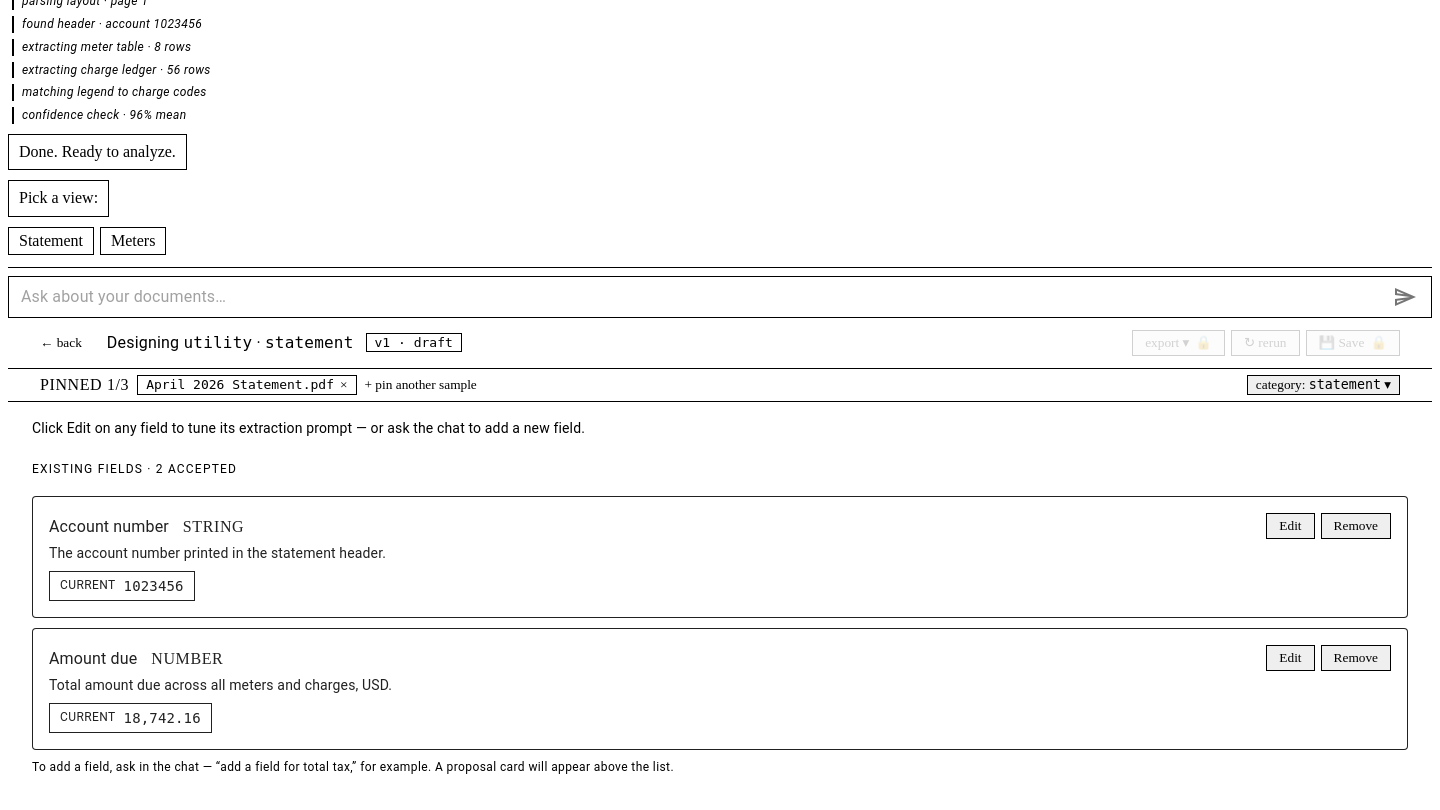
Scenario: SchemaView (UI-01 Phase 1) › anonymous Save → 401 opens the sign-in viewer with the save-schema preamble
(page scrolled)
Click the button with test id "schema-remove-field-amount_due". click: [1356, 658]
box: [1321, 645, 1391, 671]
(page scrolled)
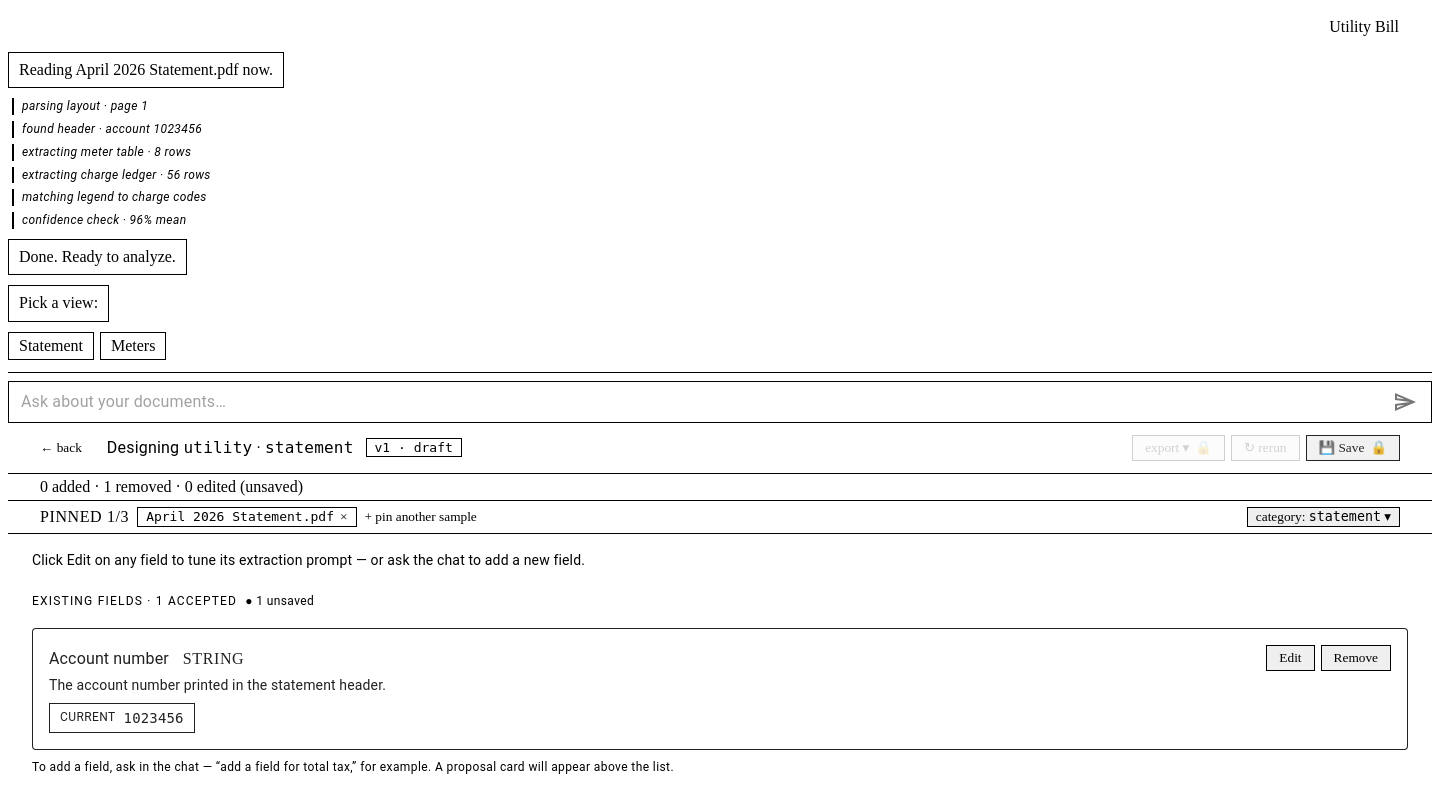
Result: the button with test id "extract-topbar-save" is enabled
Click the button with test id "extract-topbar-save". click: [1353, 448]
box: [1306, 435, 1400, 461]
(page scrolled)
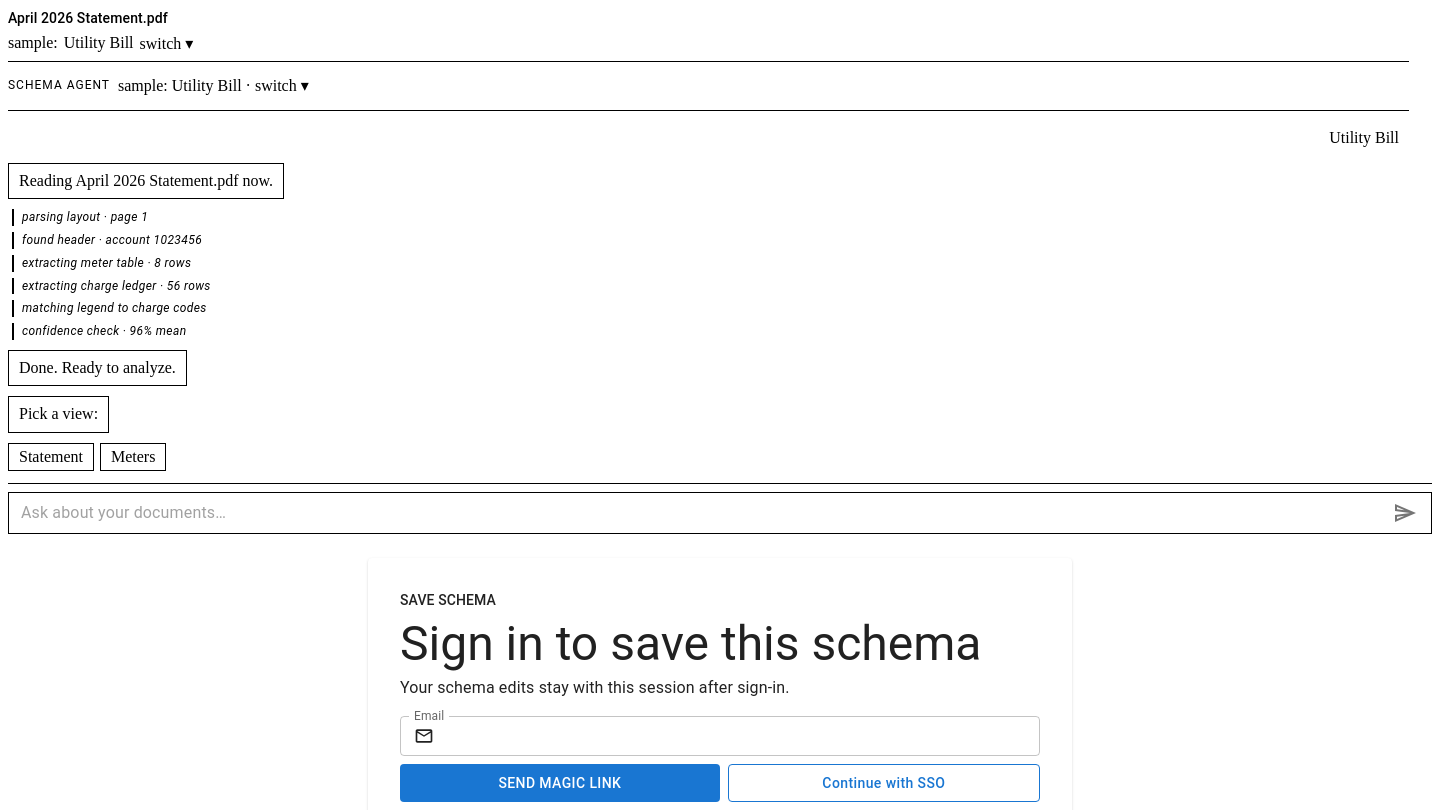
Result: the element with test id "sign-up-viewer-surface" shows "Sign in to save this schema" at [400, 615, 982, 672]
